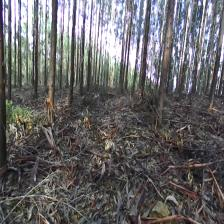trunk: (156, 13, 174, 122), (45, 6, 58, 120), (208, 31, 224, 108), (139, 5, 151, 94), (130, 24, 141, 96), (68, 20, 76, 104), (6, 3, 12, 100), (32, 2, 38, 96), (79, 27, 85, 97)
